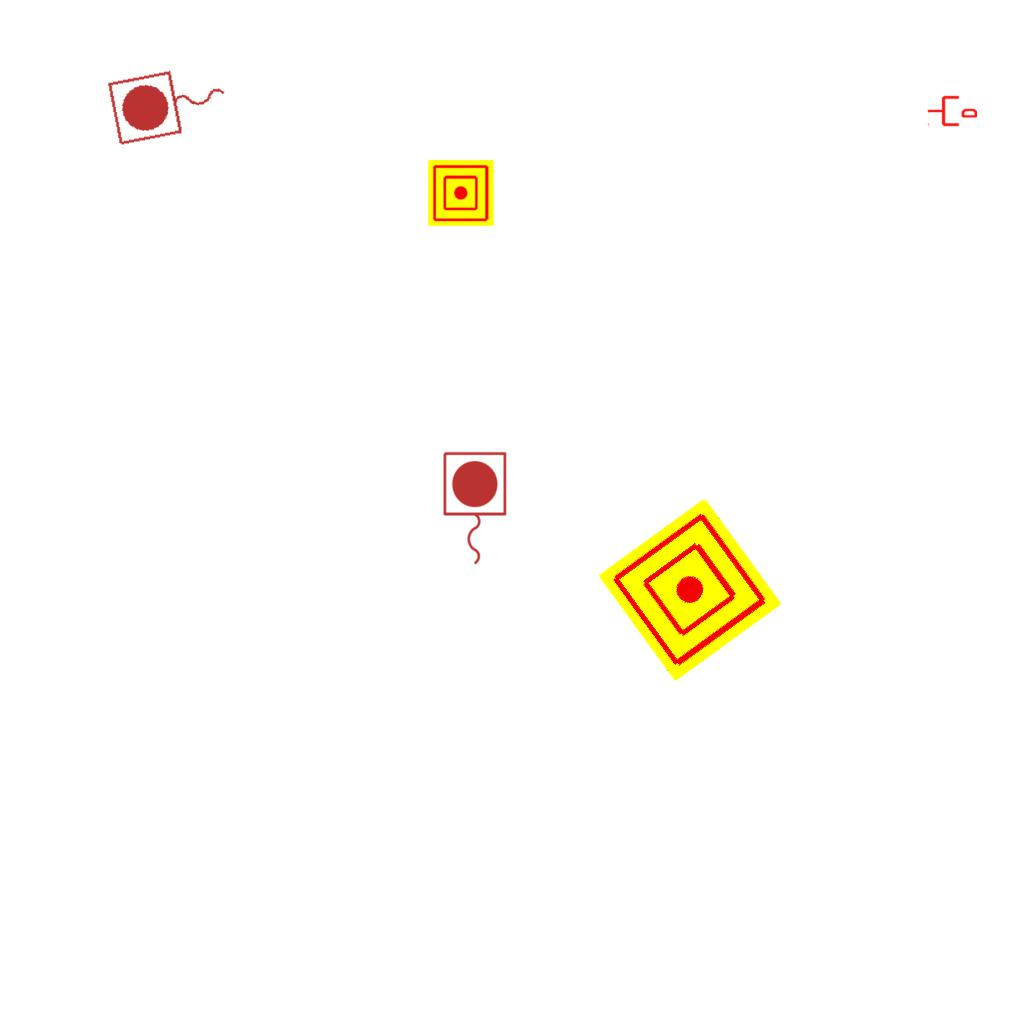Datenanschluss_einfach: (927, 94, 977, 128)
NAM-Nichtautomatischer_Melder: (597, 497, 783, 683), (428, 160, 494, 226)
Zugtaster: (103, 57, 237, 151), (438, 448, 510, 570)
